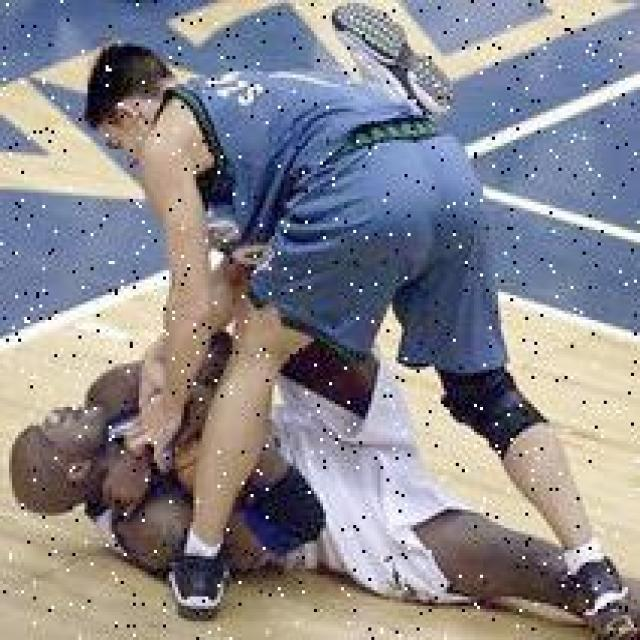fall: (9, 323, 580, 609)
